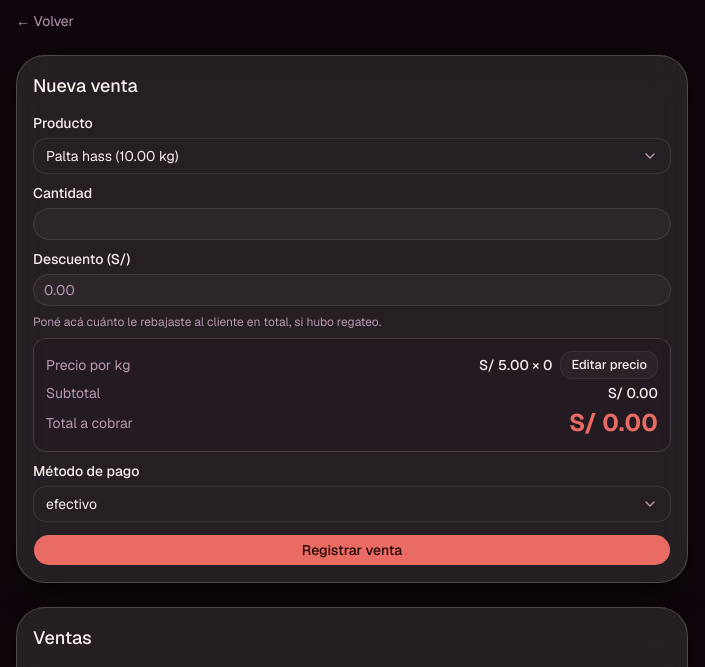
it: SalesPage › lets the seller update the catalog price without leaving the sales screen
Check: the text "S/ 5.00 × 0" is shown, box 479,355 -> 552,375
Click the button "Editar precio" at (609, 365), box 560,351 -> 658,379
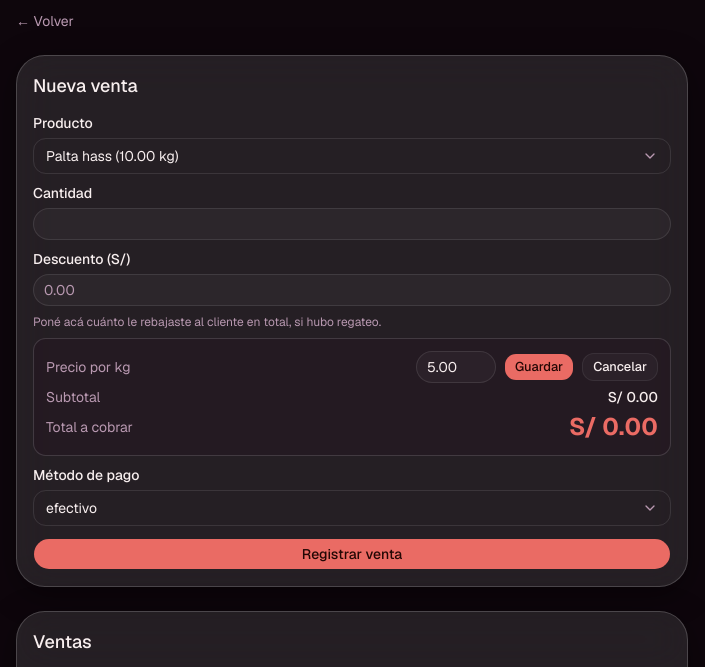
Replace the text in the field named "nuevo precio" with "6.00" at (456, 367), box 416,351 -> 496,383
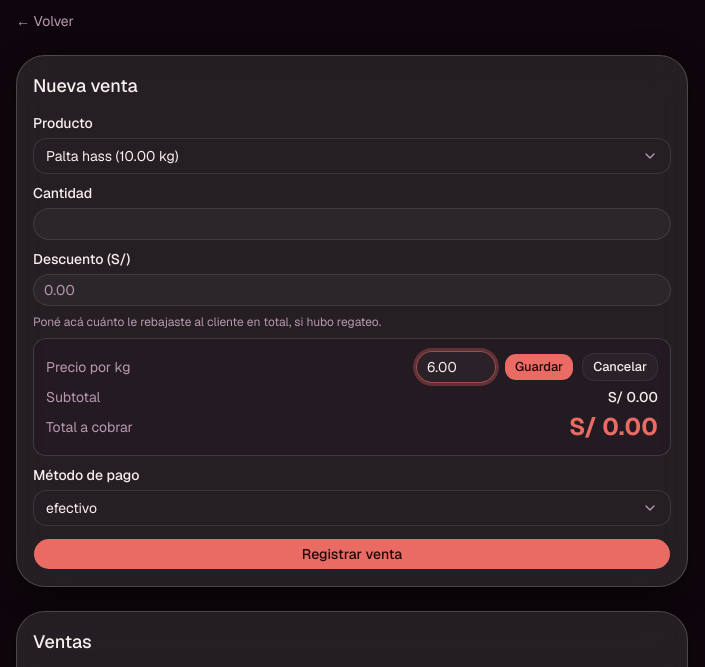
Click the button "Guardar" at (539, 367), box 504,353 -> 574,381
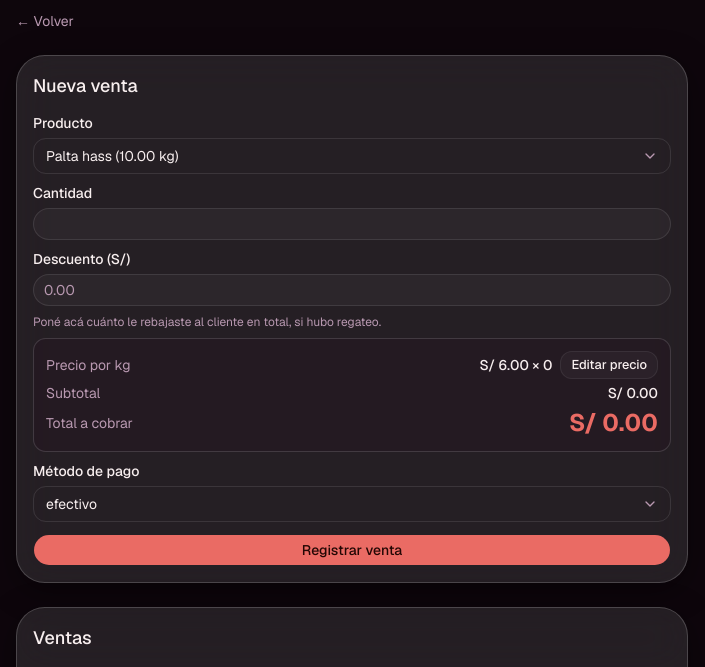
Check: the text "S/ 6.00 × 0" is shown, box 480,355 -> 552,375
